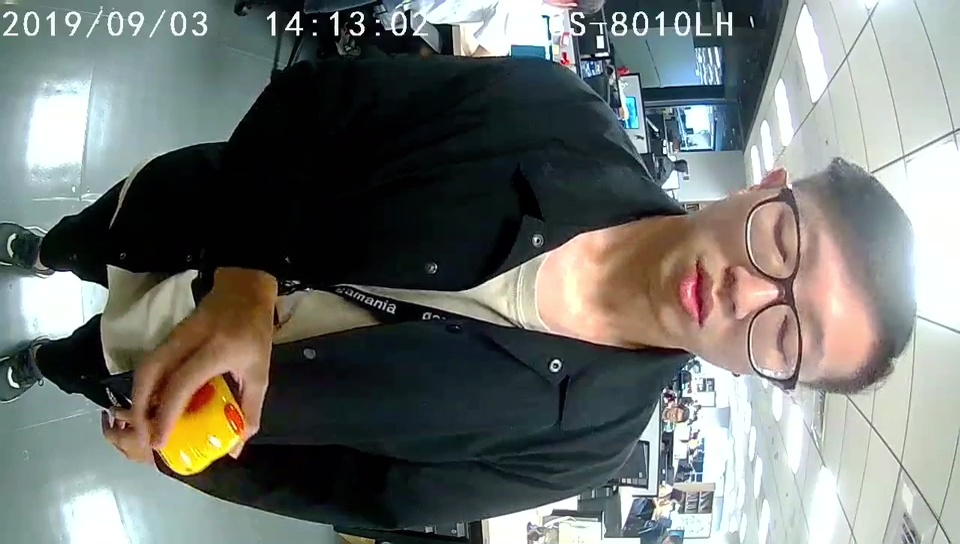car: (166, 371, 245, 478)
